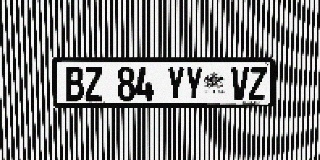4: (136, 67, 154, 101)
8: (117, 67, 135, 101)
B: (65, 67, 84, 101)
V: (231, 67, 249, 100)
Y: (167, 67, 185, 101), (185, 67, 203, 101)
Z: (84, 67, 103, 101), (248, 67, 267, 100)
